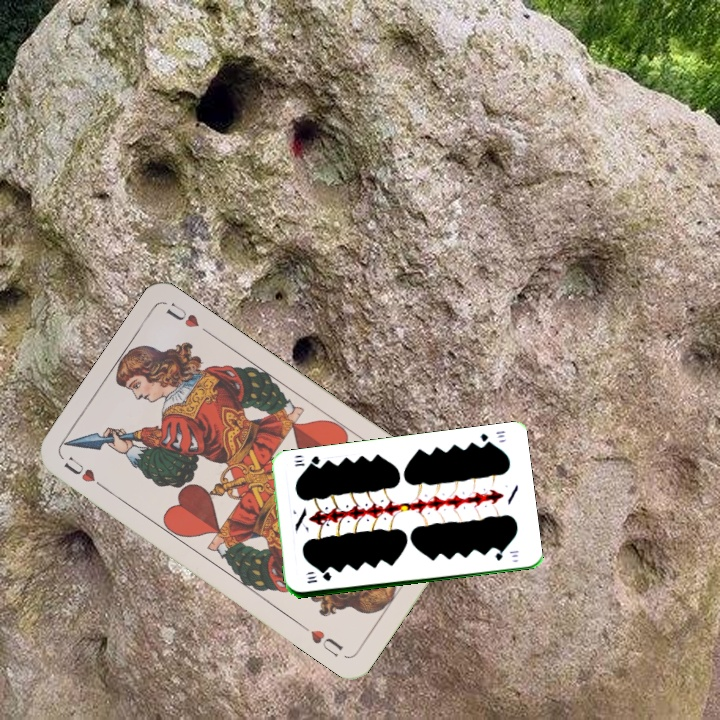G10: (476, 427, 507, 448), (303, 570, 334, 586)
HU: (60, 452, 110, 494)
